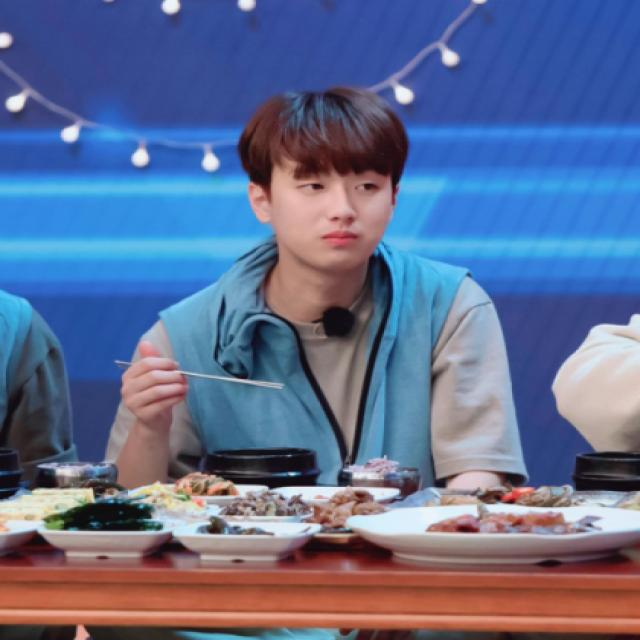eating-person: (83, 91, 546, 604)
